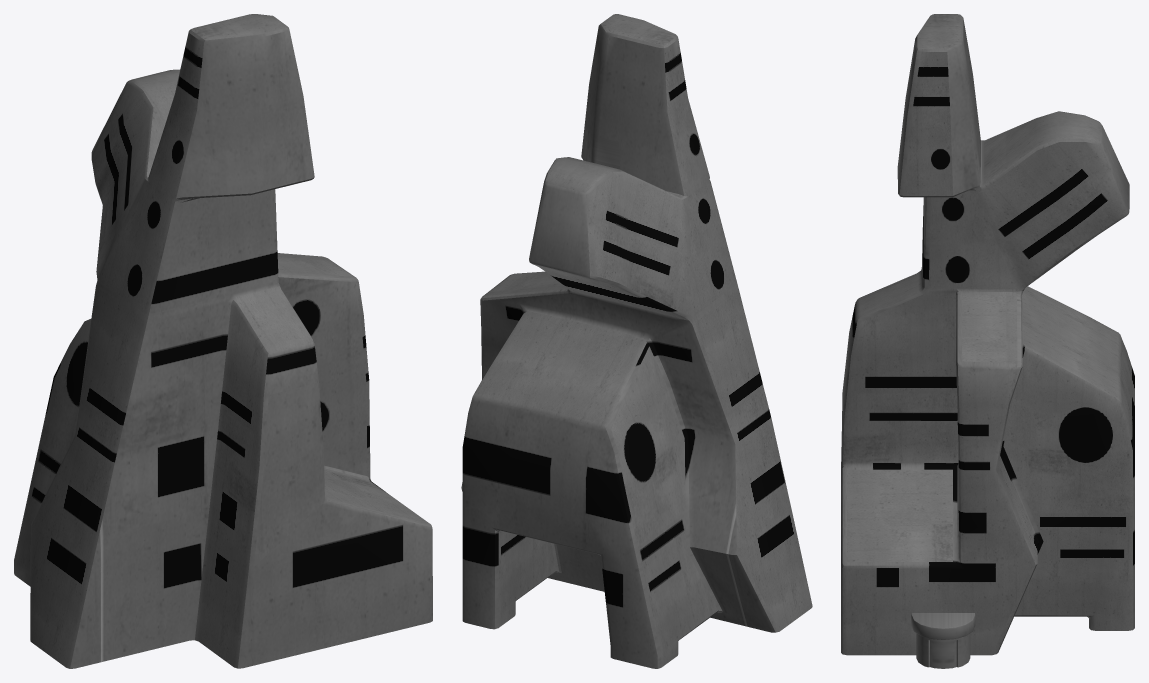
The model's file is AndyGebouw2.fbx.
3 views of the same model, side by side, from view 1: azimuth 30°, elevation 25°; view 2: azimuth 150°, elevation 25°; view 3: azimuth 270°, elevation 25° (orthographic). The views are drawn at different scales.
Parts seen in each view (by area): view 1: Cyber Skyscraper.018; view 2: Cyber Skyscraper.018; view 3: Cyber Skyscraper.018.
Part boxes in pixels (bbox=[...]): Cyber Skyscraper.018: bbox=[14, 14, 432, 668]; Cyber Skyscraper.018: bbox=[461, 14, 812, 668]; Cyber Skyscraper.018: bbox=[841, 14, 1134, 668].
Bounding box in the file's own units: 4022 × 6338 × 3025.
